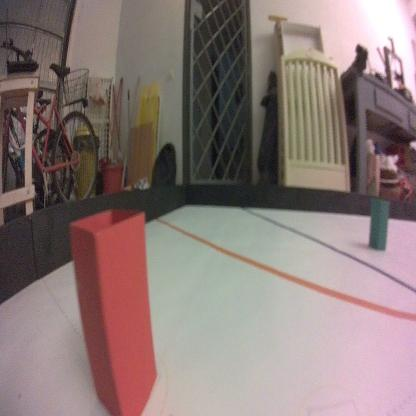green: (368, 197, 391, 251)
red: (69, 206, 157, 416)
